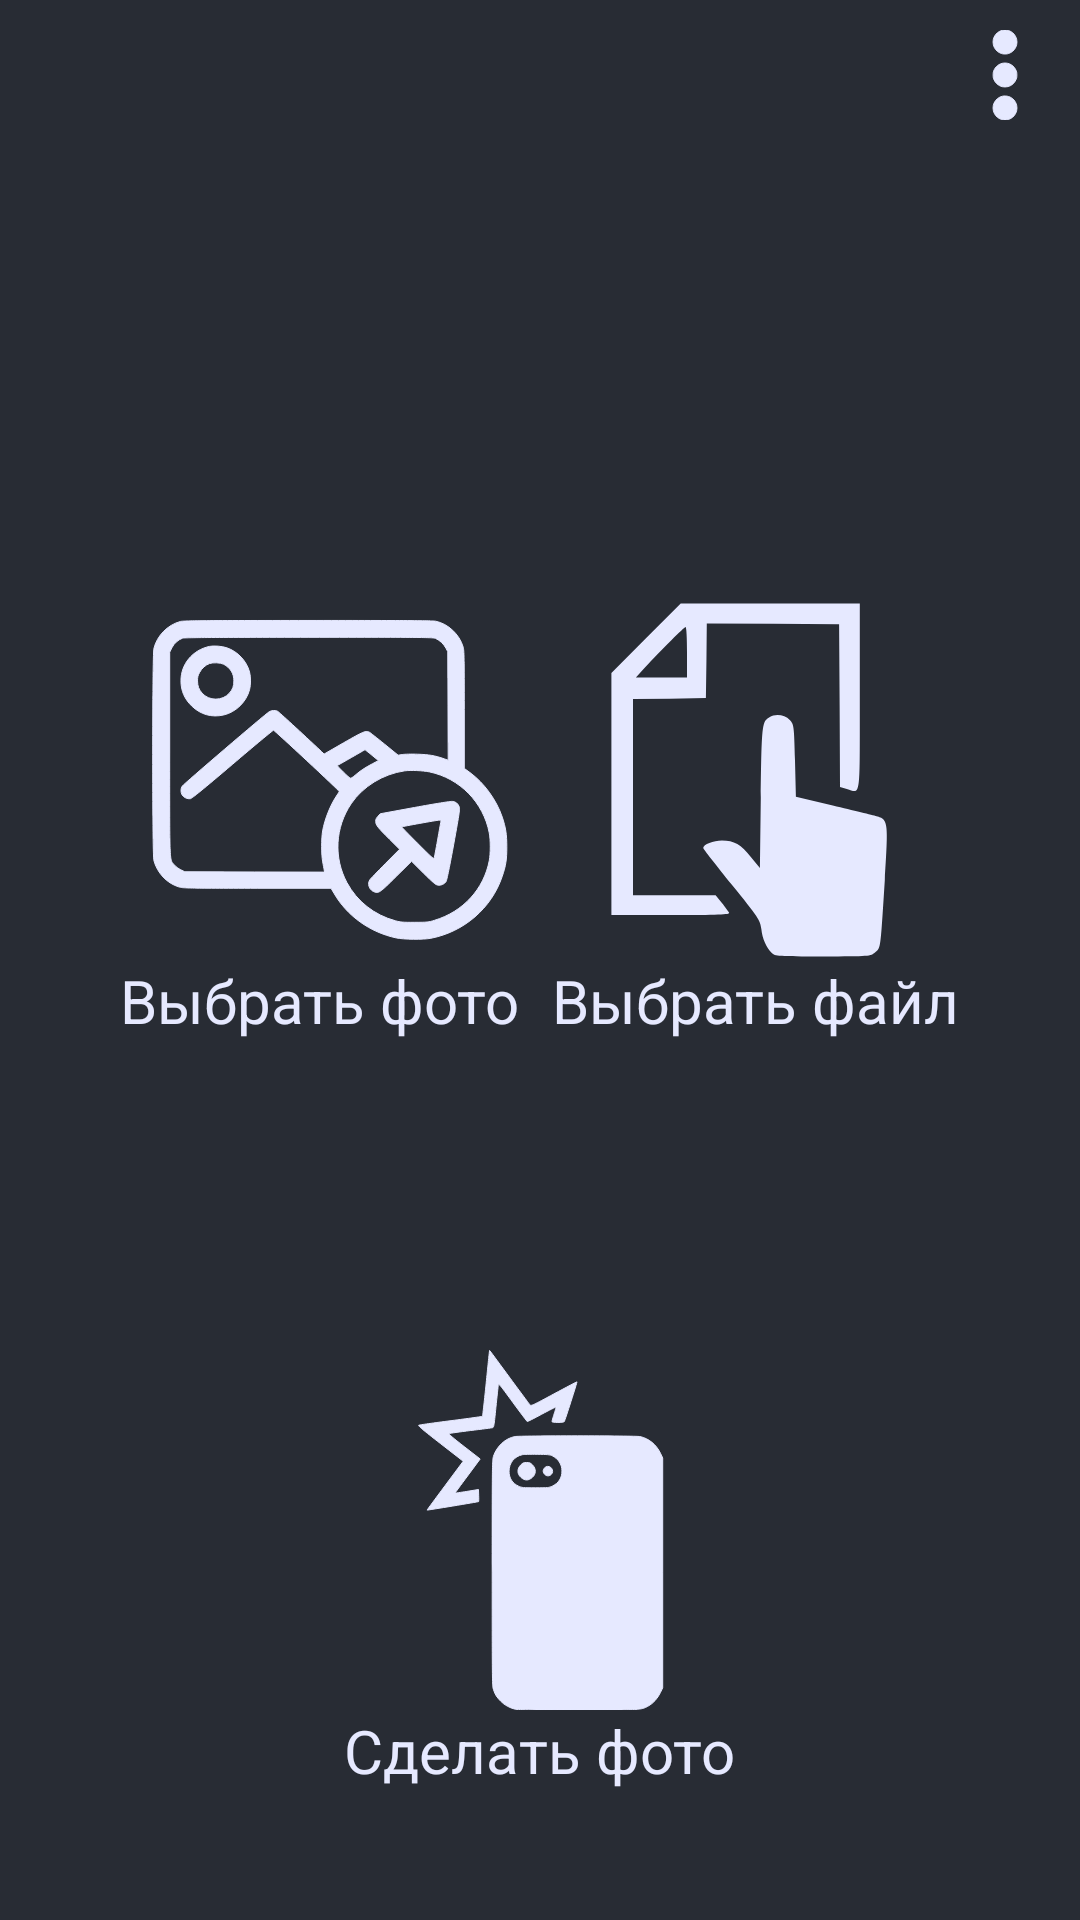

Locate icon controls on the screen. Image size 1080 x 1920, boxes as (x1, y1, x2, y2).
dots: (992, 30, 1018, 120)
